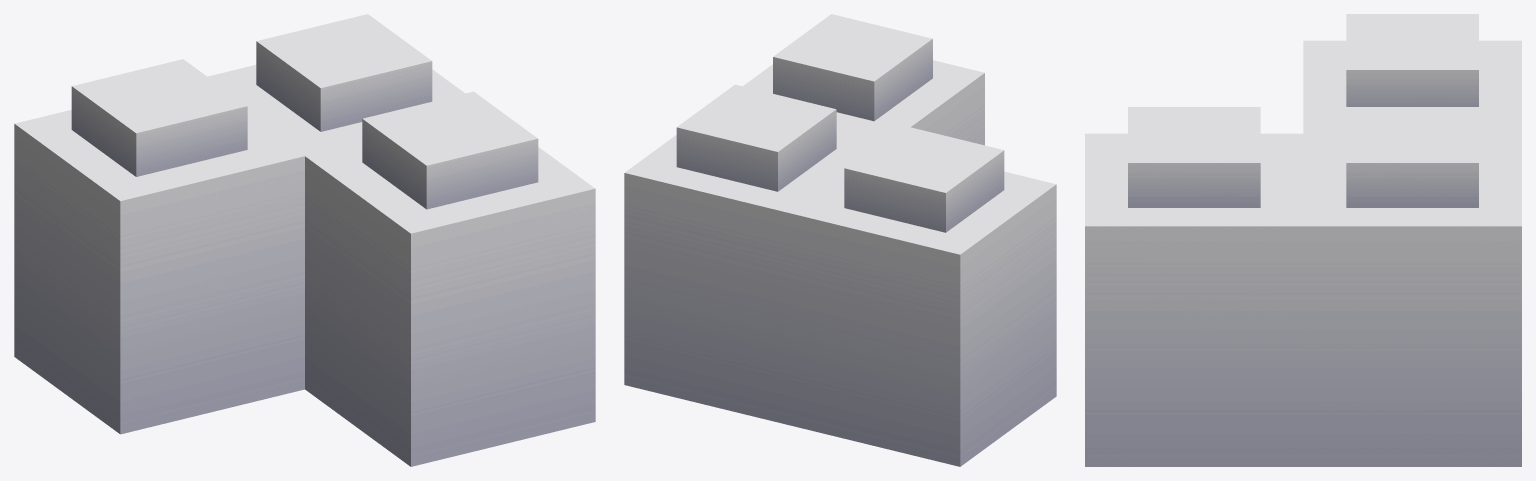
File: square-lq-brick-corner.glb
The picture shows the model from 3 angles, left to right: view 1: azimuth 30°, elevation 25°; view 2: azimuth 150°, elevation 25°; view 3: azimuth 270°, elevation 25°; orthographic projection. The views are drawn at different scales.
Visible parts, largest first — view 1: square-lq-brick-corner; view 2: square-lq-brick-corner; view 3: square-lq-brick-corner.
Part boxes in pixels (<box>): square-lq-brick-corner: <box>14,14,595,466</box>; square-lq-brick-corner: <box>624,14,1056,466</box>; square-lq-brick-corner: <box>1085,14,1521,466</box>.
Size of the model in its own units: 0.795 by 0.57 by 0.79.
1 material, 1 textured.
